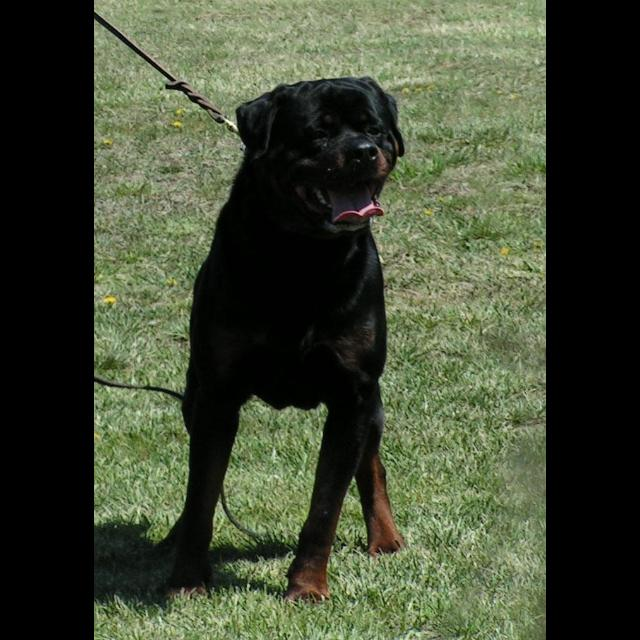rottweiler: (160, 75, 410, 605)
